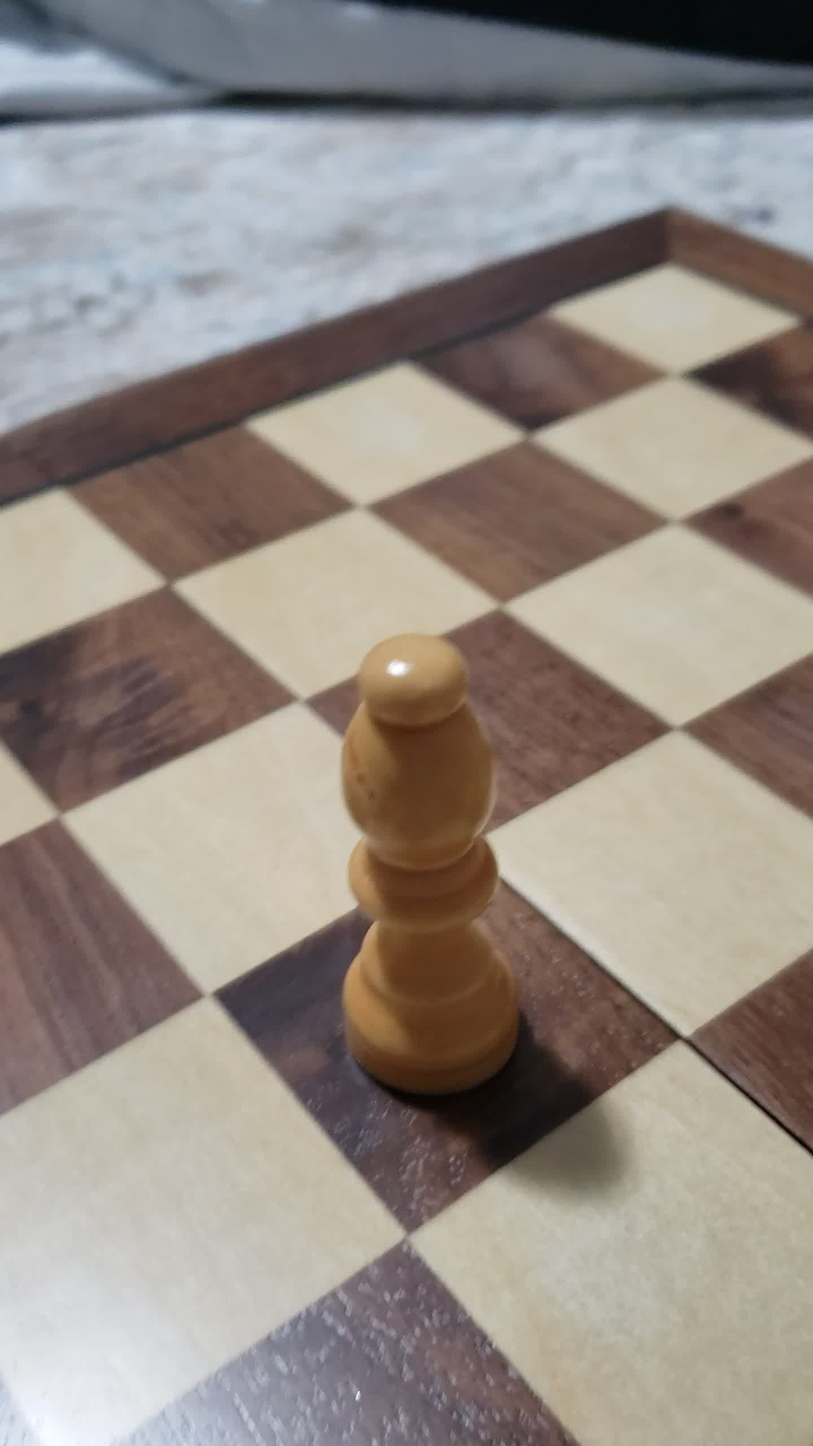white-bishop: (265, 605, 577, 1161)
